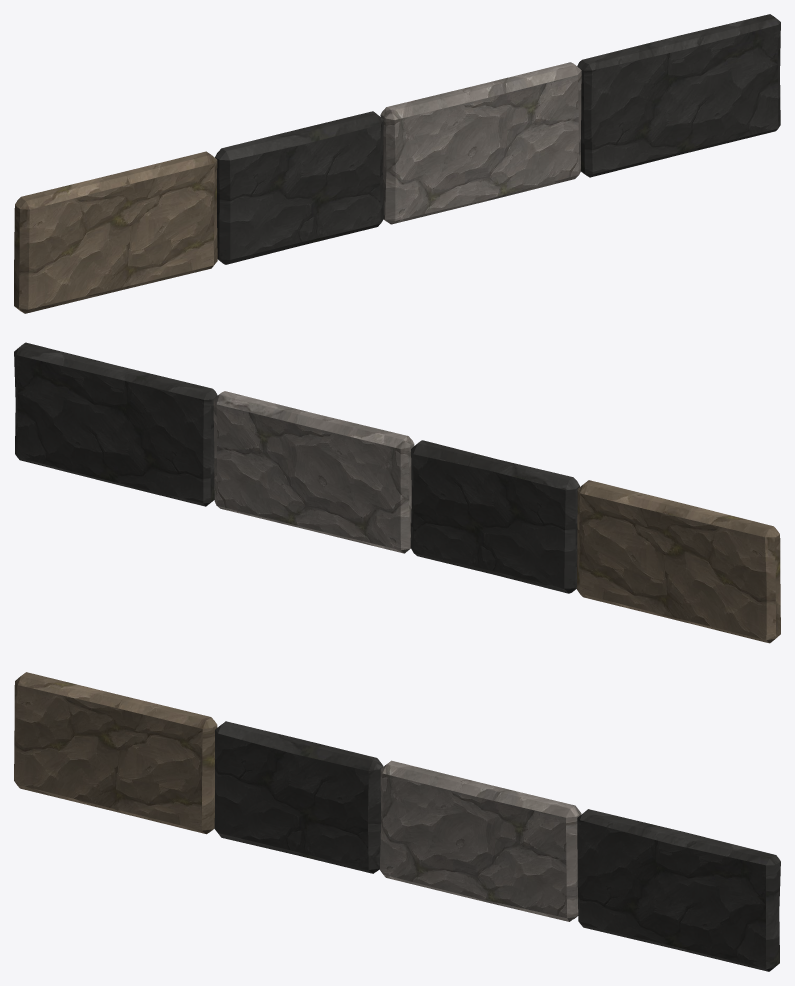
The model's file is edge_strip__cut_stone.glb.
3 views of the same model, one above another, from view 1: azimuth 30°, elevation 25°; view 2: azimuth 150°, elevation 25°; view 3: azimuth 330°, elevation 25° (orthographic).
Visible parts, largest first — view 1: model; view 2: model; view 3: model.
Boxes of the visible parts, bbox=[...] form: model: bbox=[14, 14, 780, 313]; model: bbox=[14, 342, 780, 643]; model: bbox=[14, 672, 780, 971].
Bounding box in the file's own units: 1.98 × 0.2866 × 0.054.
3 materials, 3 textured.
